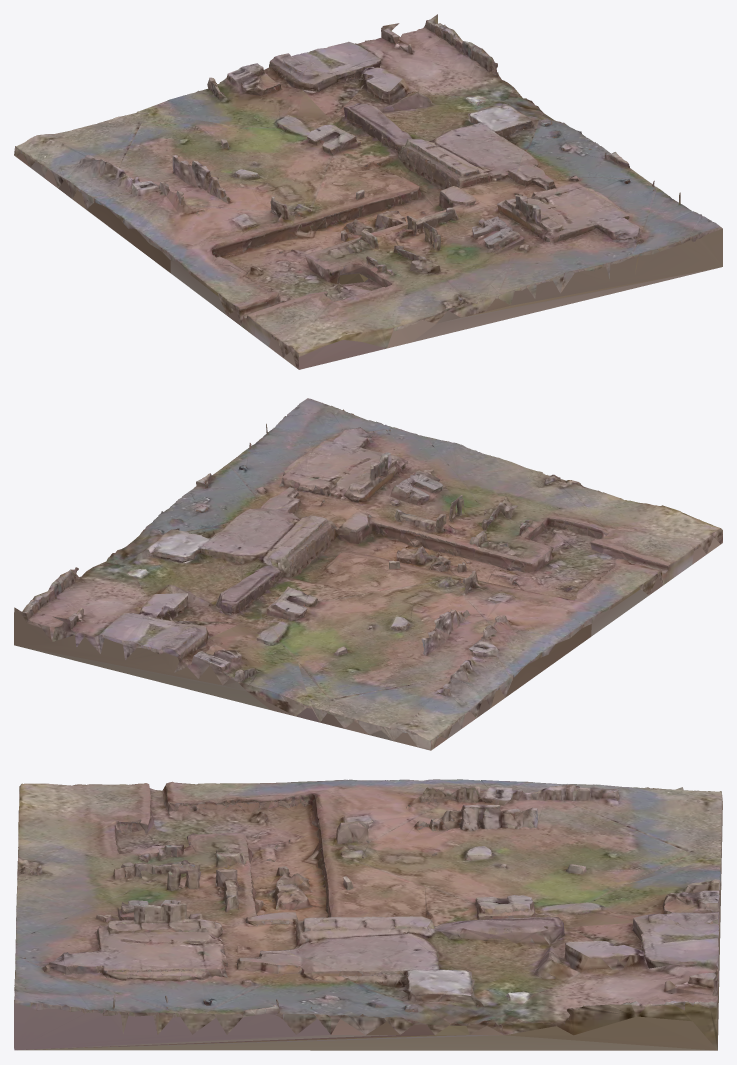
The model's file is pumapunku-scan-lite.glb.
3 renders of one model, top to bottom at view 1: azimuth 30°, elevation 25°; view 2: azimuth 150°, elevation 25°; view 3: azimuth 270°, elevation 25°, orthographic. The views are drawn at different scales.
Parts seen in each view (by area): view 1: Object_2; view 2: Object_2; view 3: Object_2.
Boxes of the visible parts, x1,y1,x2,y2 form: Object_2: (14, 14, 722, 369); Object_2: (14, 398, 722, 750); Object_2: (14, 779, 722, 1050).
Bounding box in the file's own units: 34.99 × 4.4 × 41.46.
Materials: 1 (1 with a texture image).
